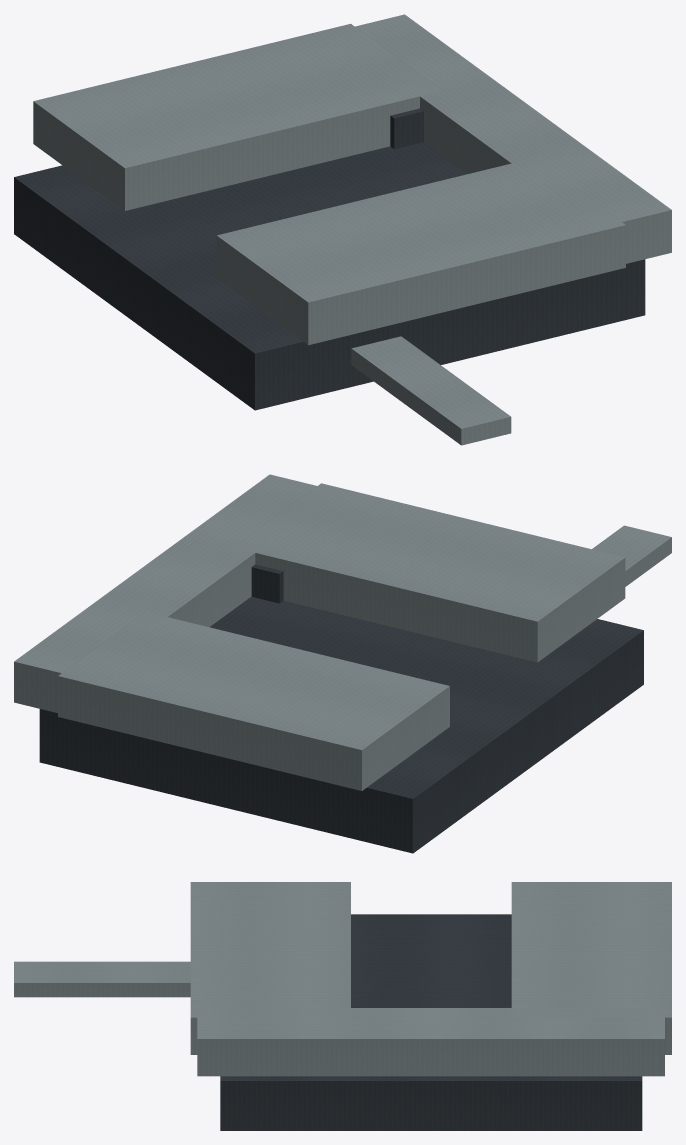
Rendered from PZ_IRONVALE_FifthWheel_Coupler_PIVOT.glb.
3 views of the same model, one above another, from view 1: azimuth 30°, elevation 25°; view 2: azimuth 150°, elevation 25°; view 3: azimuth 270°, elevation 25° (orthographic). The views are drawn at different scales.
Parts seen in each view (by area): view 1: TR_FifthWheel_BaseMount, TR_FifthWheel_Jaw_-1, TR_FifthWheel_Jaw_+1, TR_FifthWheel_NoseBridge, TR_FifthWheel_ReleaseHandle, TR_FifthWheel_LockingDog_+1; view 2: TR_FifthWheel_BaseMount, TR_FifthWheel_Jaw_+1, TR_FifthWheel_Jaw_-1, TR_FifthWheel_NoseBridge, TR_FifthWheel_ReleaseHandle, TR_FifthWheel_LockingDog_-1; view 3: TR_FifthWheel_BaseMount, TR_FifthWheel_NoseBridge, TR_FifthWheel_Jaw_-1, TR_FifthWheel_Jaw_+1, TR_FifthWheel_ReleaseHandle.
Boxes of the visible parts, x1,y1,x2,y2 form: TR_FifthWheel_BaseMount: (14, 142, 645, 410); TR_FifthWheel_Jaw_-1: (216, 162, 625, 345); TR_FifthWheel_Jaw_+1: (33, 23, 442, 210); TR_FifthWheel_NoseBridge: (338, 14, 671, 263); TR_FifthWheel_ReleaseHandle: (351, 336, 511, 445); TR_FifthWheel_LockingDog_+1: (390, 108, 423, 149); TR_FifthWheel_BaseMount: (39, 596, 643, 853); TR_FifthWheel_Jaw_+1: (58, 612, 449, 790); TR_FifthWheel_Jaw_-1: (234, 483, 625, 662); TR_FifthWheel_NoseBridge: (14, 474, 337, 712); TR_FifthWheel_ReleaseHandle: (592, 525, 671, 586); TR_FifthWheel_LockingDog_-1: (251, 564, 283, 603); TR_FifthWheel_BaseMount: (220, 914, 642, 1130); TR_FifthWheel_NoseBridge: (197, 1008, 664, 1076); TR_FifthWheel_Jaw_-1: (190, 882, 350, 1054); TR_FifthWheel_Jaw_+1: (511, 882, 671, 1054); TR_FifthWheel_ReleaseHandle: (14, 961, 190, 997).
Size of the model in its own units: 0.89 by 0.235 by 1.43.
2 materials, 2 textured.
